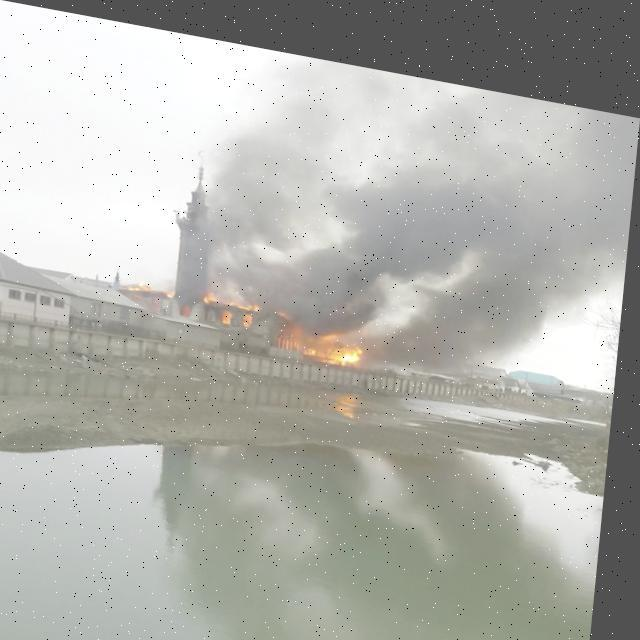Fire: (120, 248, 278, 316), (290, 306, 388, 374)
